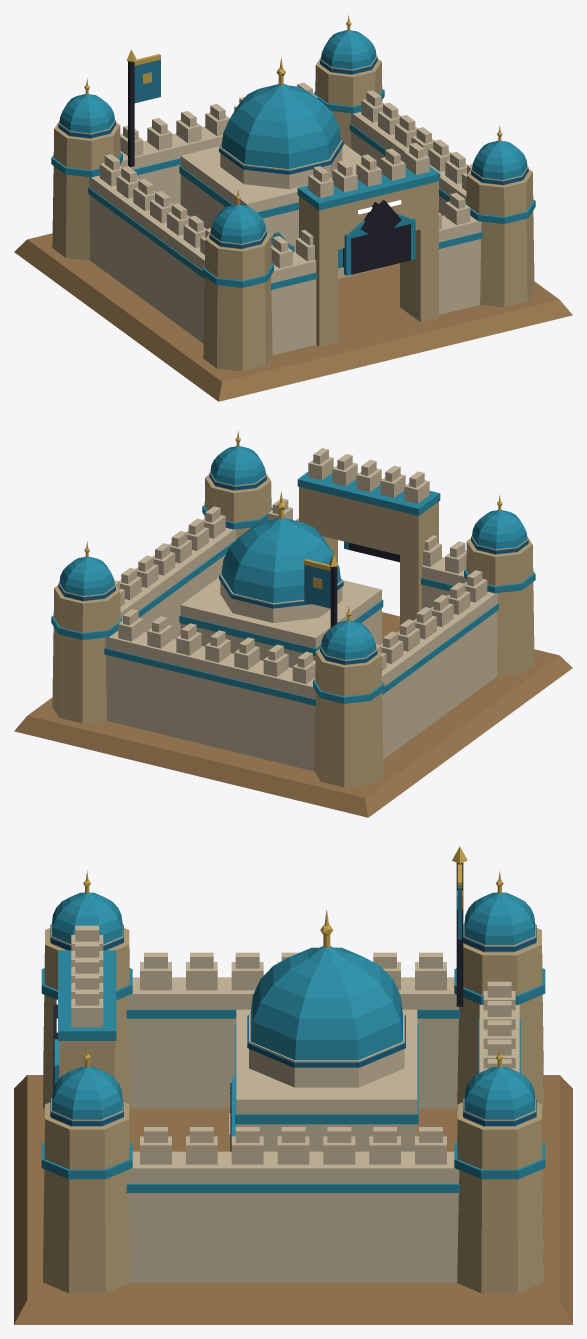
File: castle_t2.glb
3 views of the same model, one above another, from view 1: azimuth 30°, elevation 25°; view 2: azimuth 150°, elevation 25°; view 3: azimuth 270°, elevation 25° (orthographic). The views are drawn at different scales.
Visible parts, largest first — view 1: body; view 2: body; view 3: body.
Part boxes in pixels (x1,y1,x2,y2): body: [14, 15, 572, 401]; body: [14, 431, 572, 817]; body: [14, 846, 572, 1324].
Bounding box in the file's own units: 4.2 × 2.47 × 4.2.
